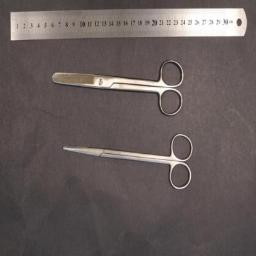Dressing Scissors: (52, 58, 184, 118)
